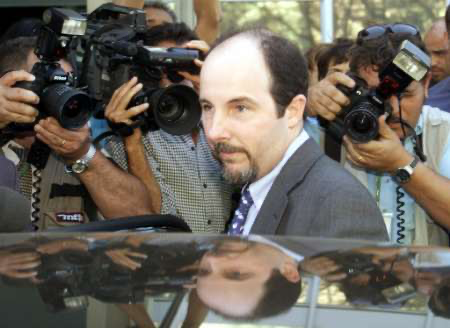Face: (198, 50, 295, 170), (352, 64, 426, 144), (421, 26, 449, 79)
